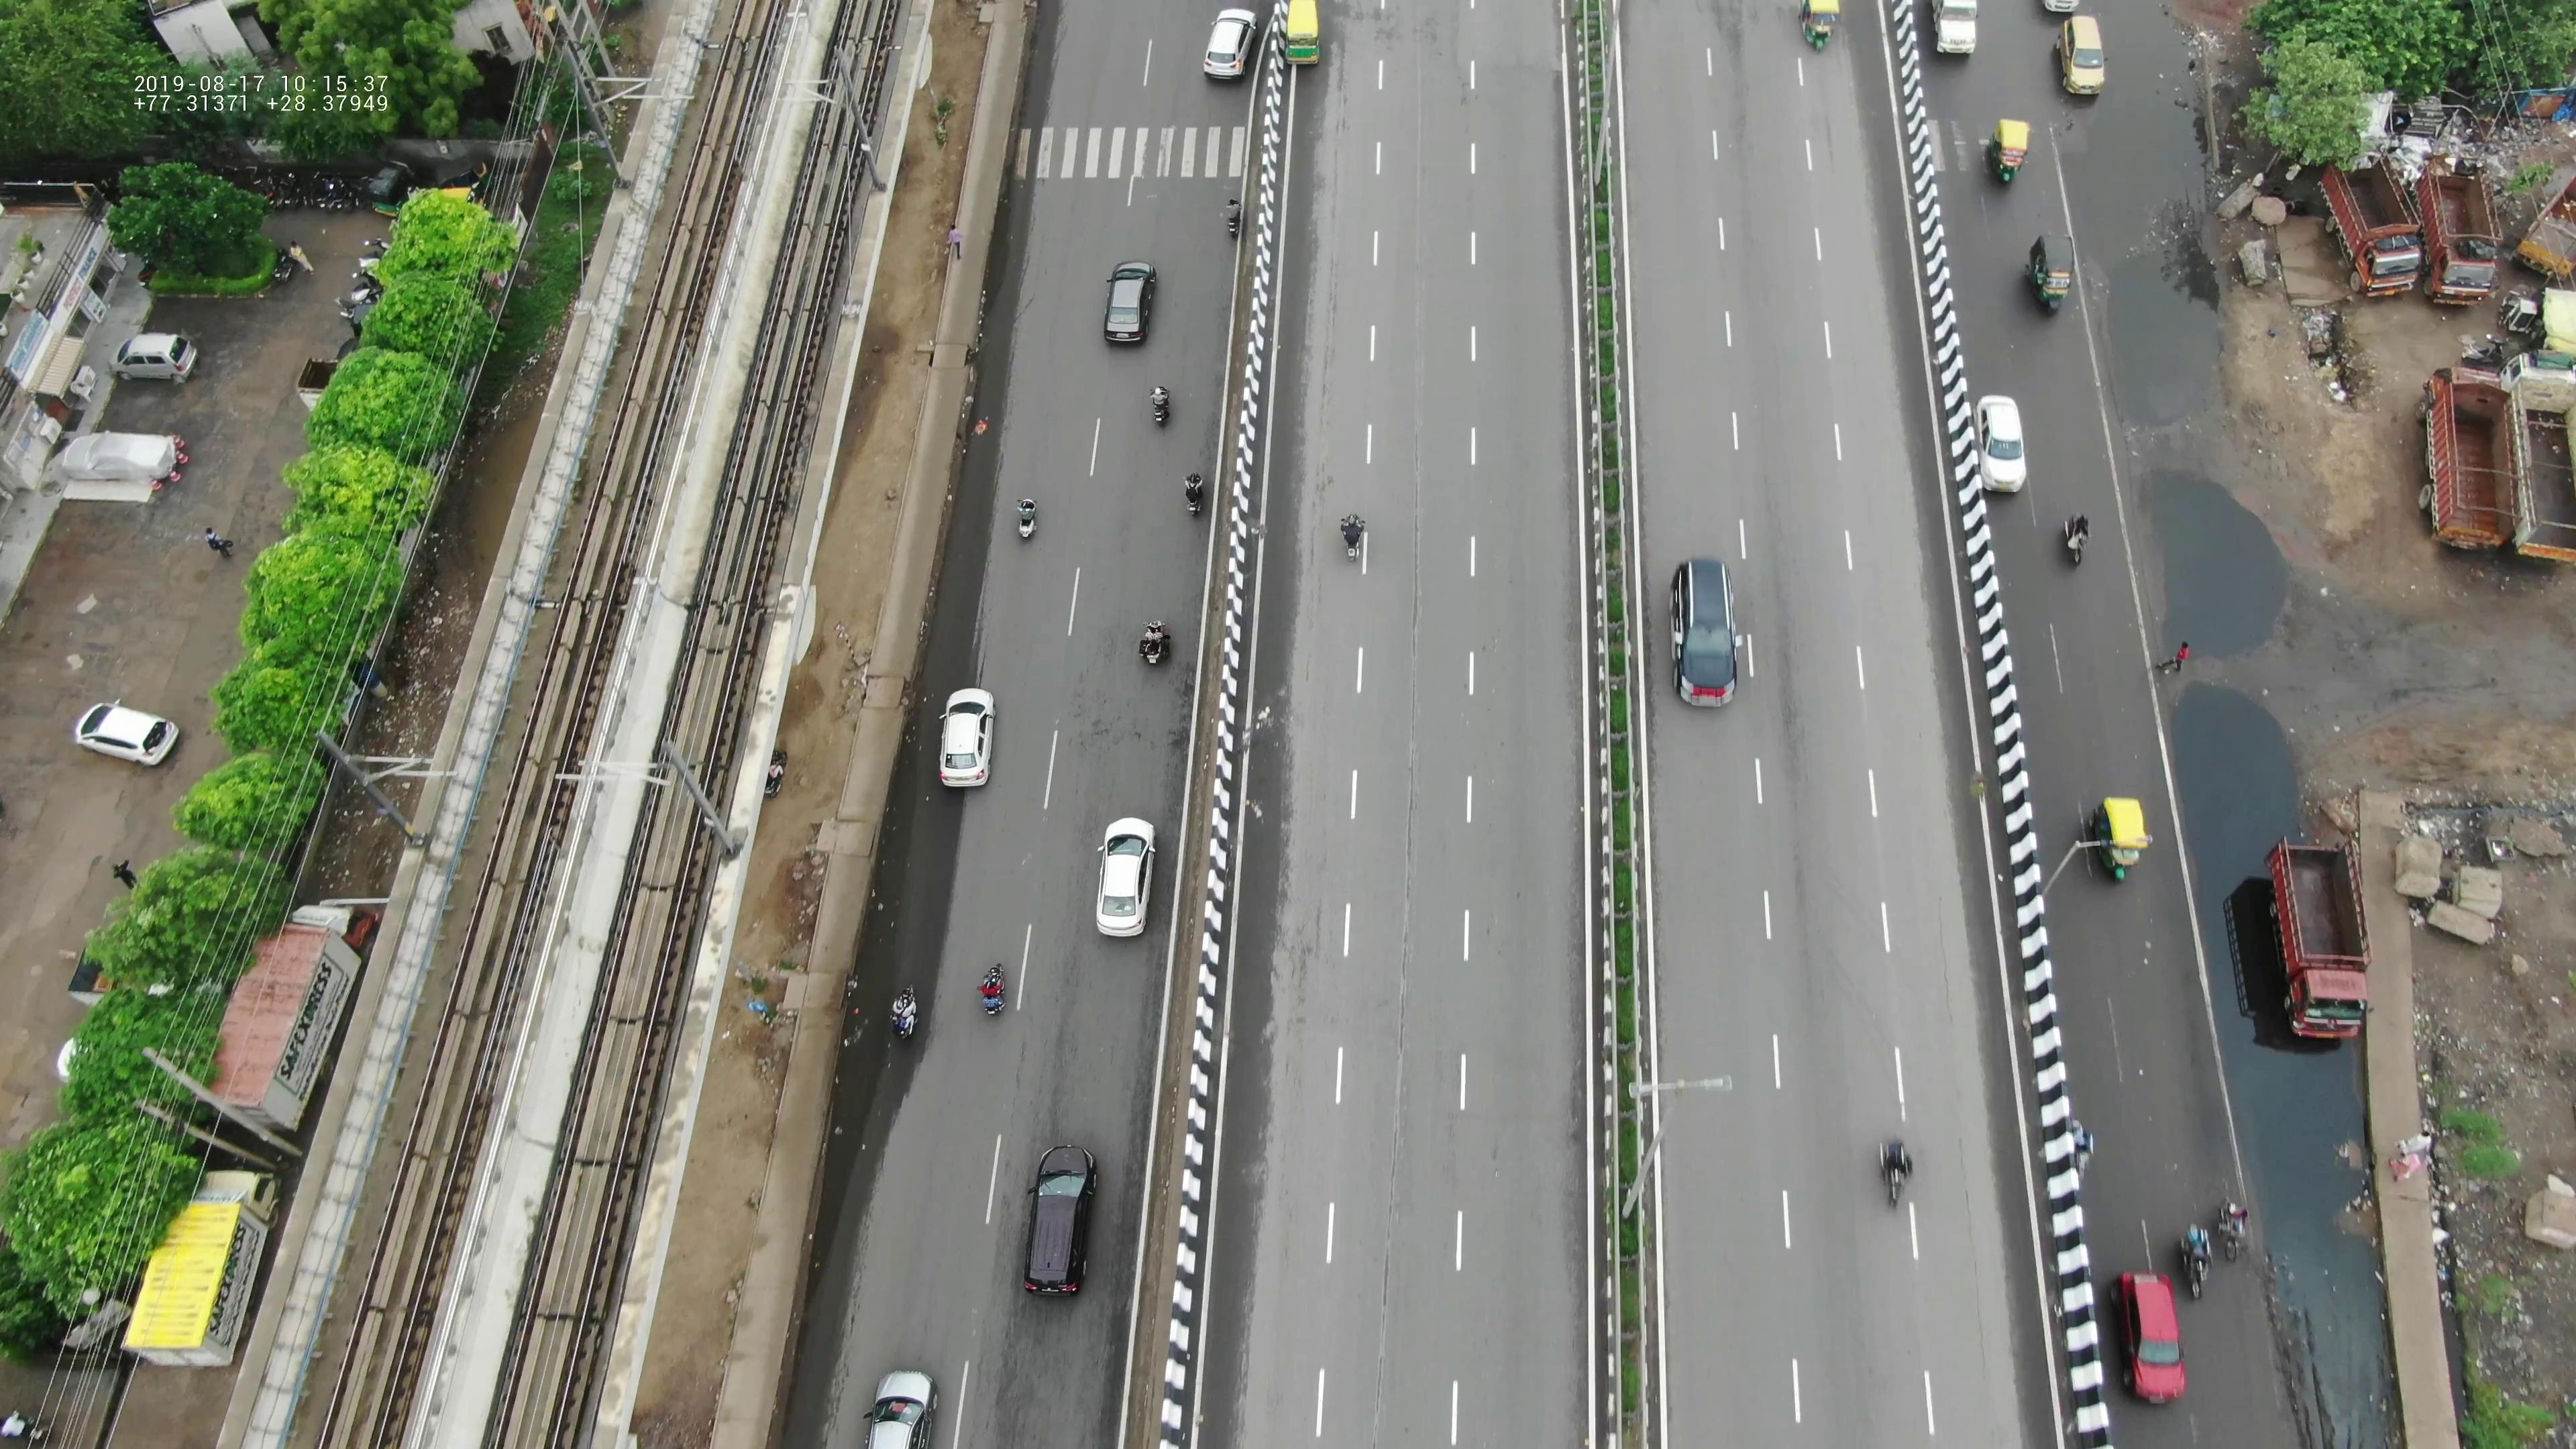Ravelling: (1362, 1175, 1398, 1424), (1389, 504, 1426, 736), (1378, 748, 1422, 939), (1375, 966, 1414, 1154), (1396, 387, 1430, 488)
Waterlogging: (2155, 725, 2360, 1246), (2054, 94, 2238, 412), (2109, 425, 2293, 690)
